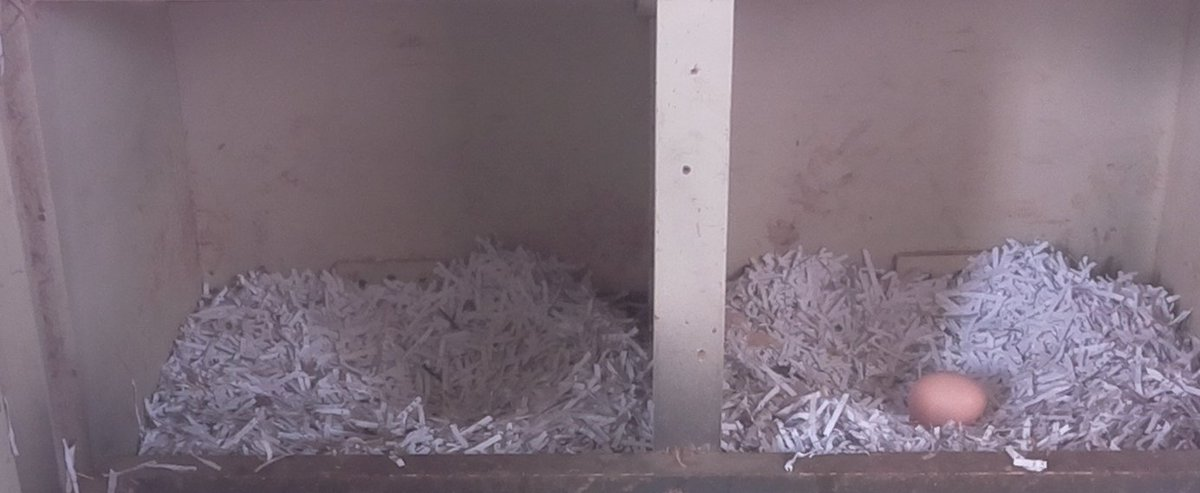egg: (903, 370, 993, 428)
